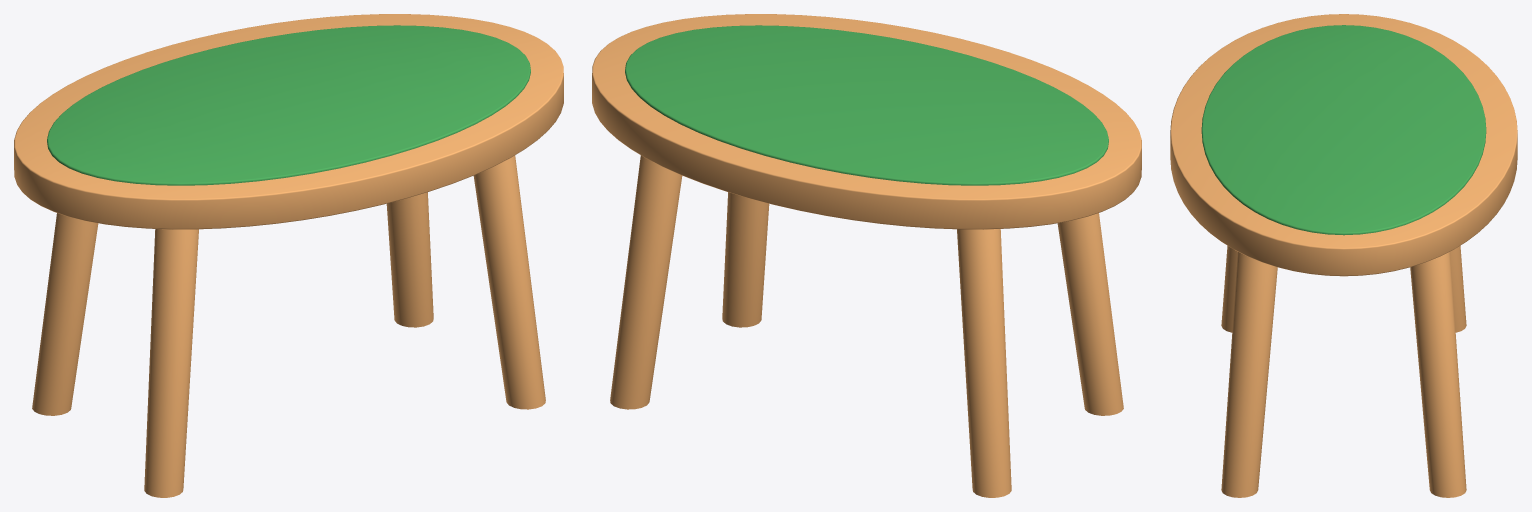
File: mesa_centro_oval_verde.glb
3 views of the same model, side by side, from view 1: azimuth 30°, elevation 25°; view 2: azimuth 150°, elevation 25°; view 3: azimuth 270°, elevation 25° (orthographic). The views are drawn at different scales.
Visible parts, largest first — view 1: mesa_centro_oval_verde; view 2: mesa_centro_oval_verde; view 3: mesa_centro_oval_verde.
Boxes of the visible parts, bbox=[...] form: mesa_centro_oval_verde: bbox=[14, 14, 563, 497]; mesa_centro_oval_verde: bbox=[592, 14, 1141, 497]; mesa_centro_oval_verde: bbox=[1170, 14, 1517, 497].
Bounding box in the file's own units: 0.8 × 0.4435 × 0.5.
1 material, 1 textured.
